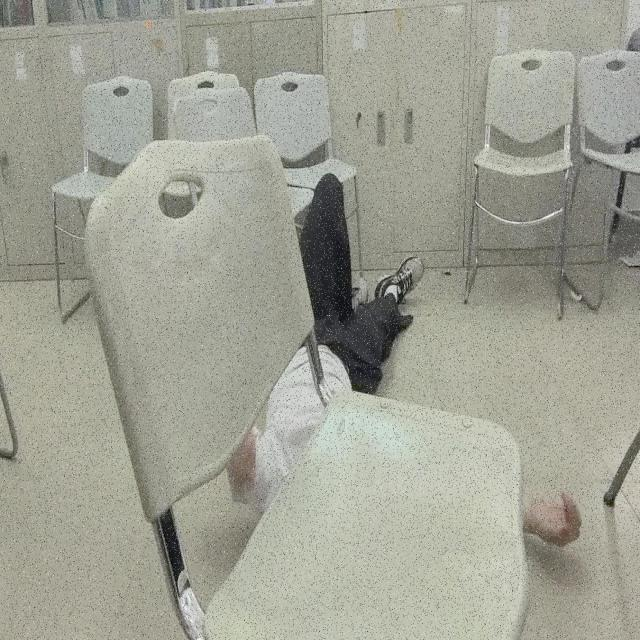fall: (221, 170, 582, 609)
